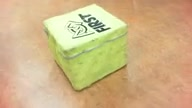cube: (42, 3, 128, 92)
